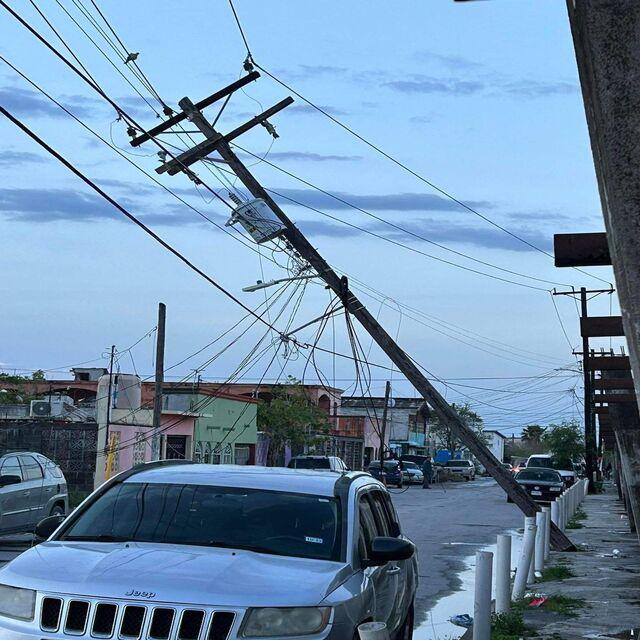Inclined Pole: (118, 55, 580, 550)
